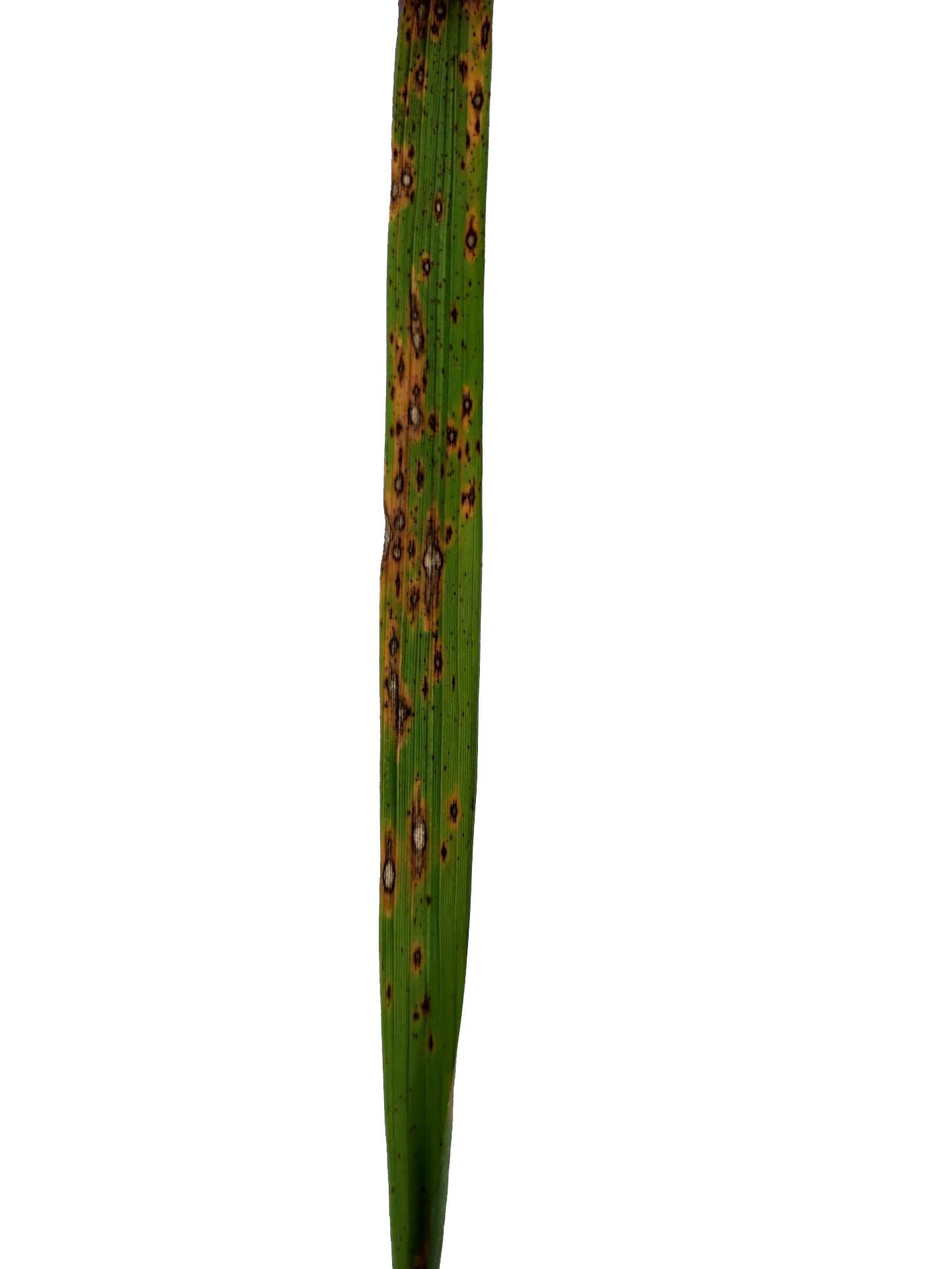Rice blast: (417, 506, 444, 612), (403, 290, 434, 363), (408, 789, 432, 881), (383, 670, 414, 735), (380, 825, 399, 907), (384, 504, 404, 568), (416, 990, 437, 1041), (402, 399, 428, 434), (404, 1, 426, 42), (410, 57, 429, 97), (415, 251, 438, 283), (446, 793, 462, 839), (392, 444, 405, 499), (412, 940, 429, 975), (459, 390, 477, 423), (430, 641, 444, 681), (388, 627, 405, 659), (480, 14, 491, 63), (394, 354, 409, 386), (446, 423, 462, 452), (400, 167, 414, 200), (466, 217, 477, 259), (432, 2, 448, 26), (439, 834, 450, 866), (435, 194, 446, 222), (473, 87, 482, 120)
